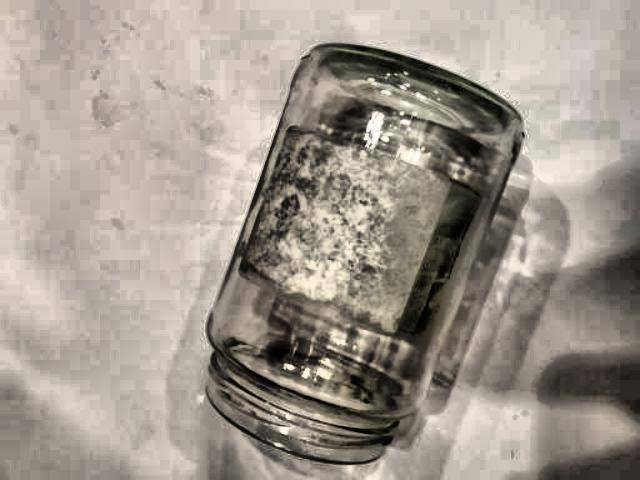Almennt: (169, 30, 531, 480)
